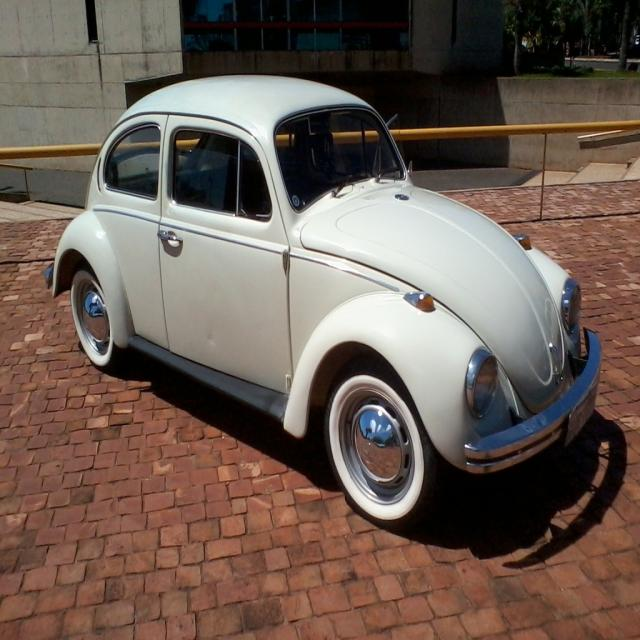car: (39, 67, 602, 528)
